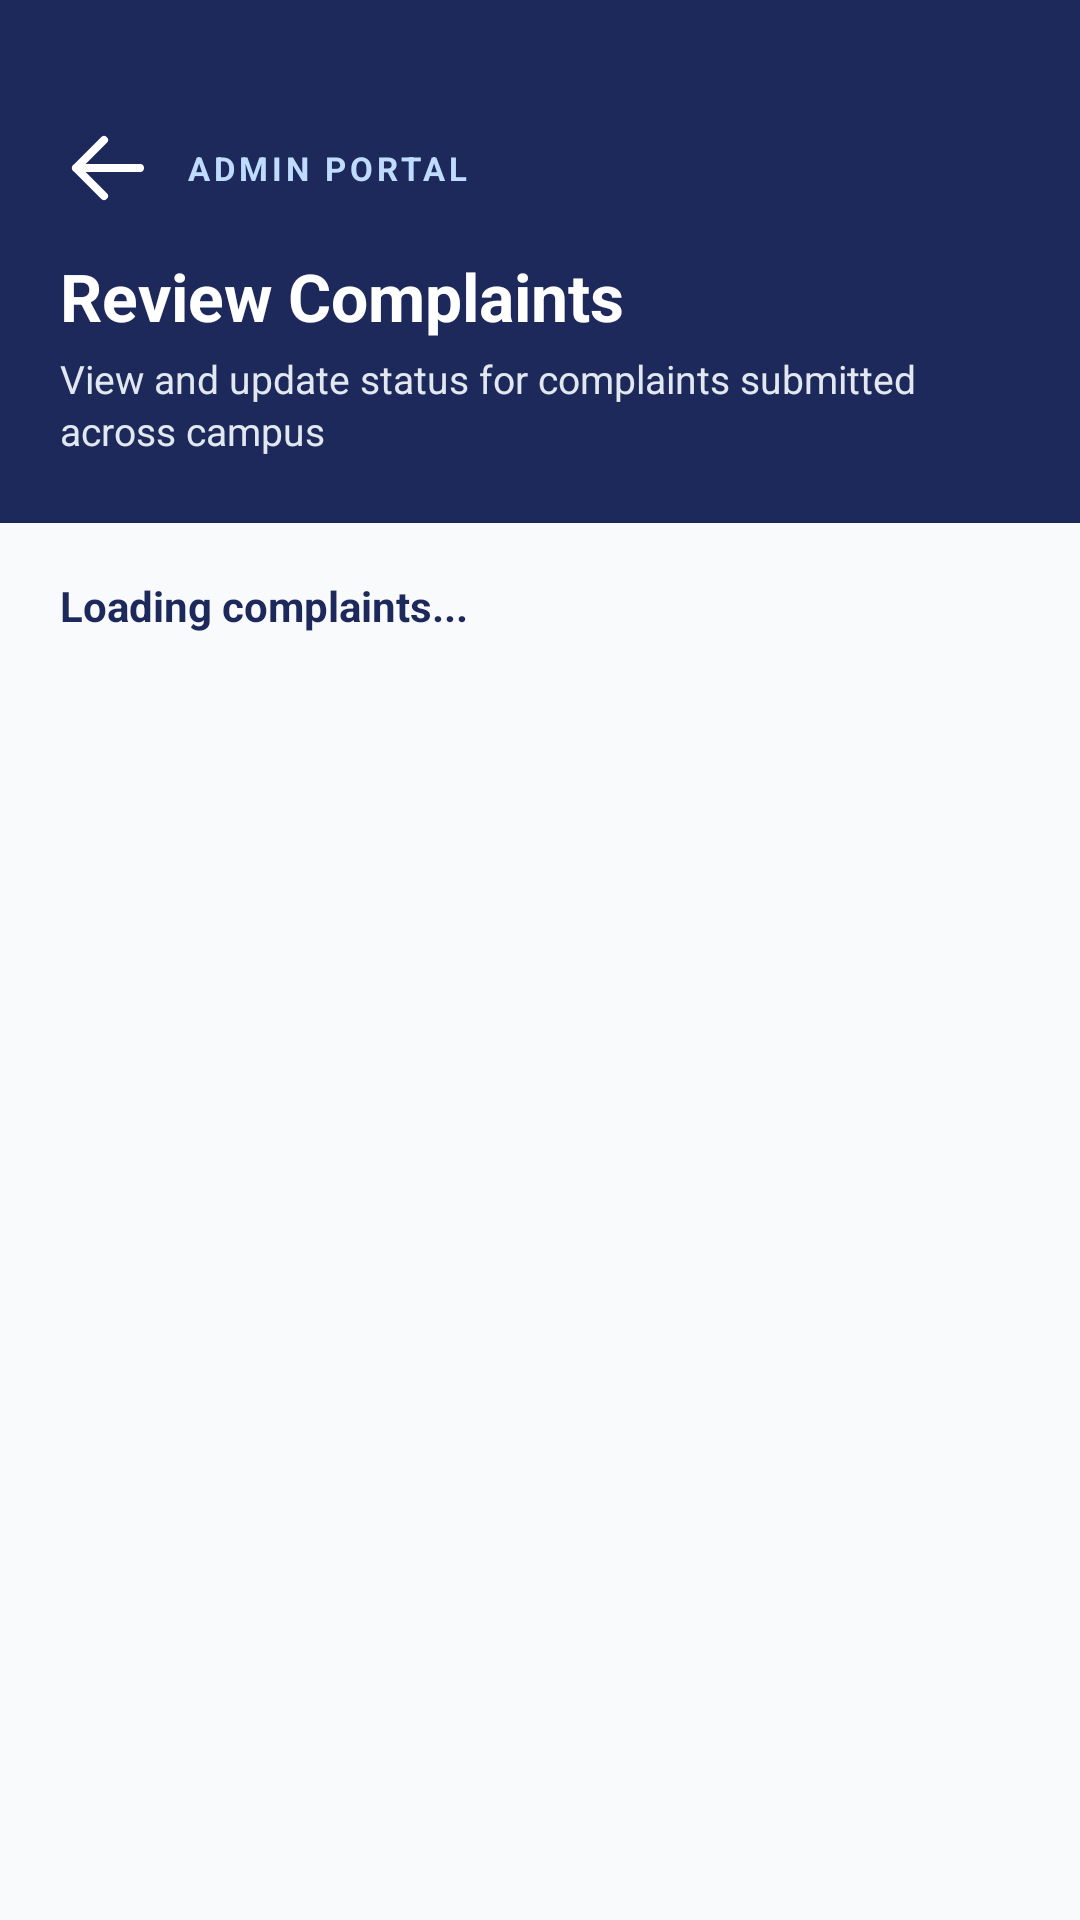

Where to tap for icons on this 1080px x 1920px app screen, as (x,y):
Back: (107,168)
